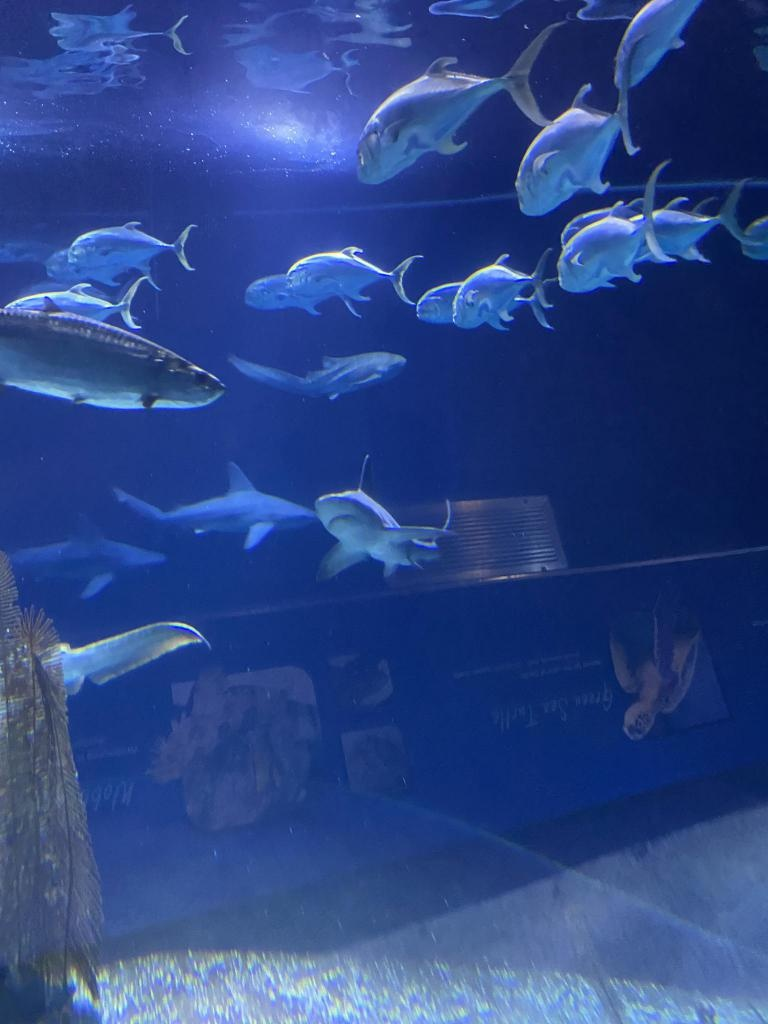fish: (350, 42, 550, 180), (1, 303, 242, 409), (506, 90, 634, 224), (554, 170, 676, 296), (602, 0, 716, 94), (228, 346, 400, 406), (634, 180, 742, 262), (446, 252, 554, 328), (67, 218, 205, 274), (558, 194, 676, 258), (1, 289, 164, 333), (286, 248, 418, 302), (402, 284, 559, 328), (241, 270, 369, 322), (41, 244, 155, 282), (737, 211, 768, 271)
shark: (124, 476, 314, 550), (319, 490, 461, 580), (2, 523, 164, 595)
